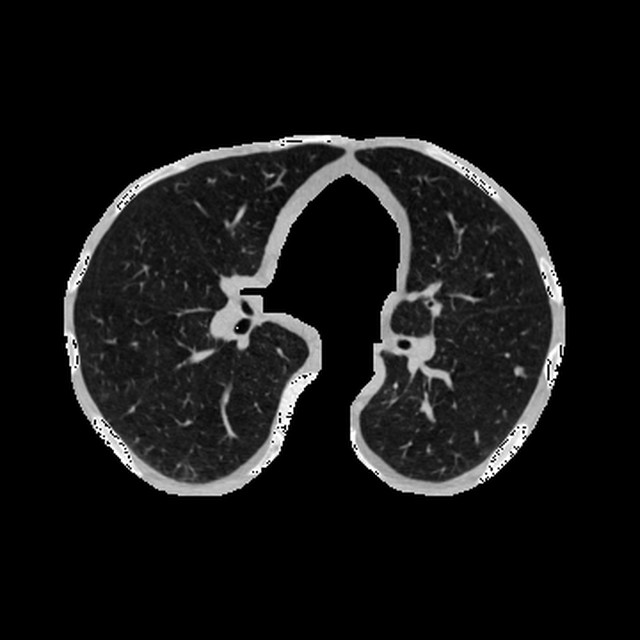PN: (516, 368, 523, 375)
